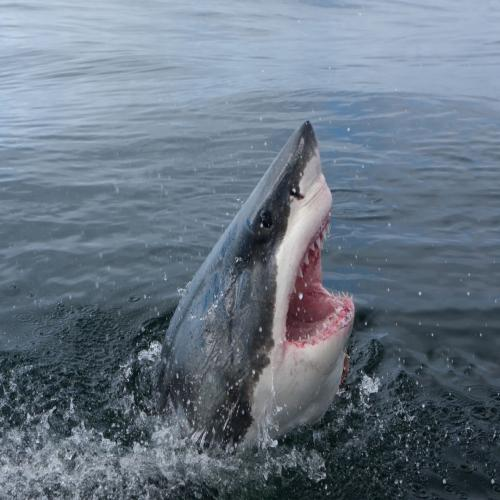shark-endangered: (144, 109, 364, 465)
